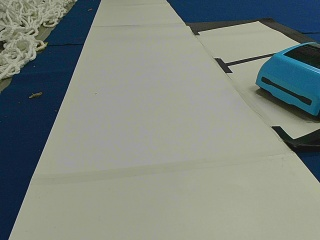car: (255, 41, 317, 116)
